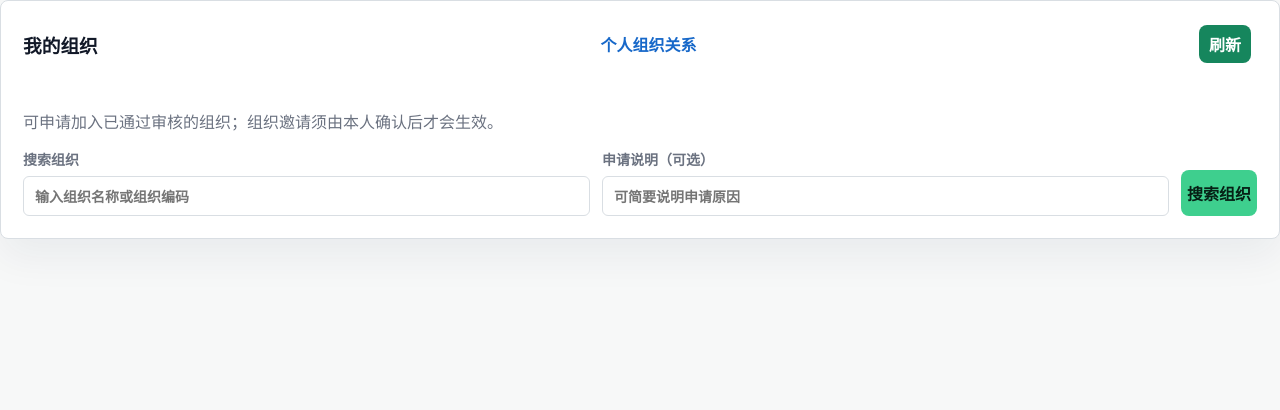
Test: MyOrganizationPage › 接口失败时保留搜索输入并显示错误信息
In the search field labelled "搜索组织": (306, 196) left=23, top=176, right=590, bottom=216, type "实验"
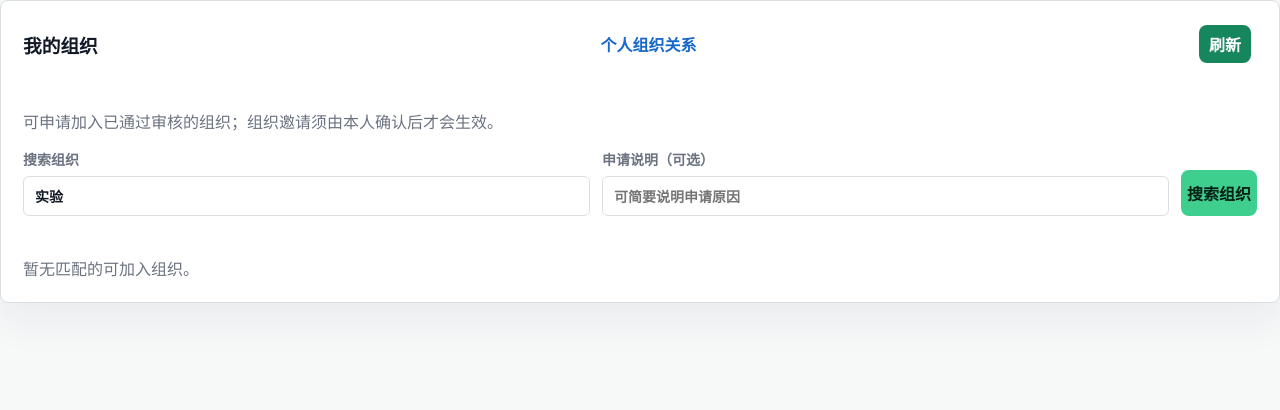
Click the button "搜索组织": (1219, 193) left=1181, top=170, right=1257, bottom=216
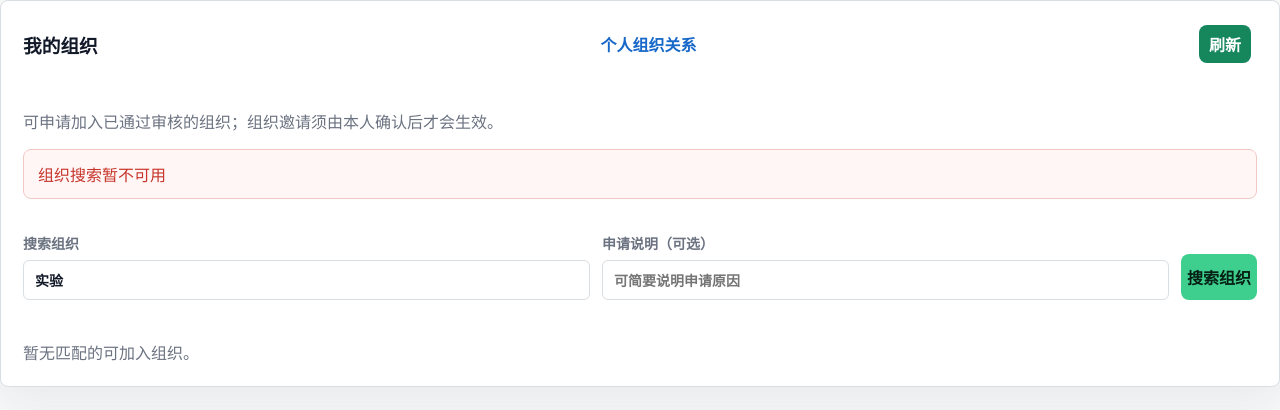
Check: the text "组织搜索暂不可用" is shown, box left=23, top=149, right=1257, bottom=199
